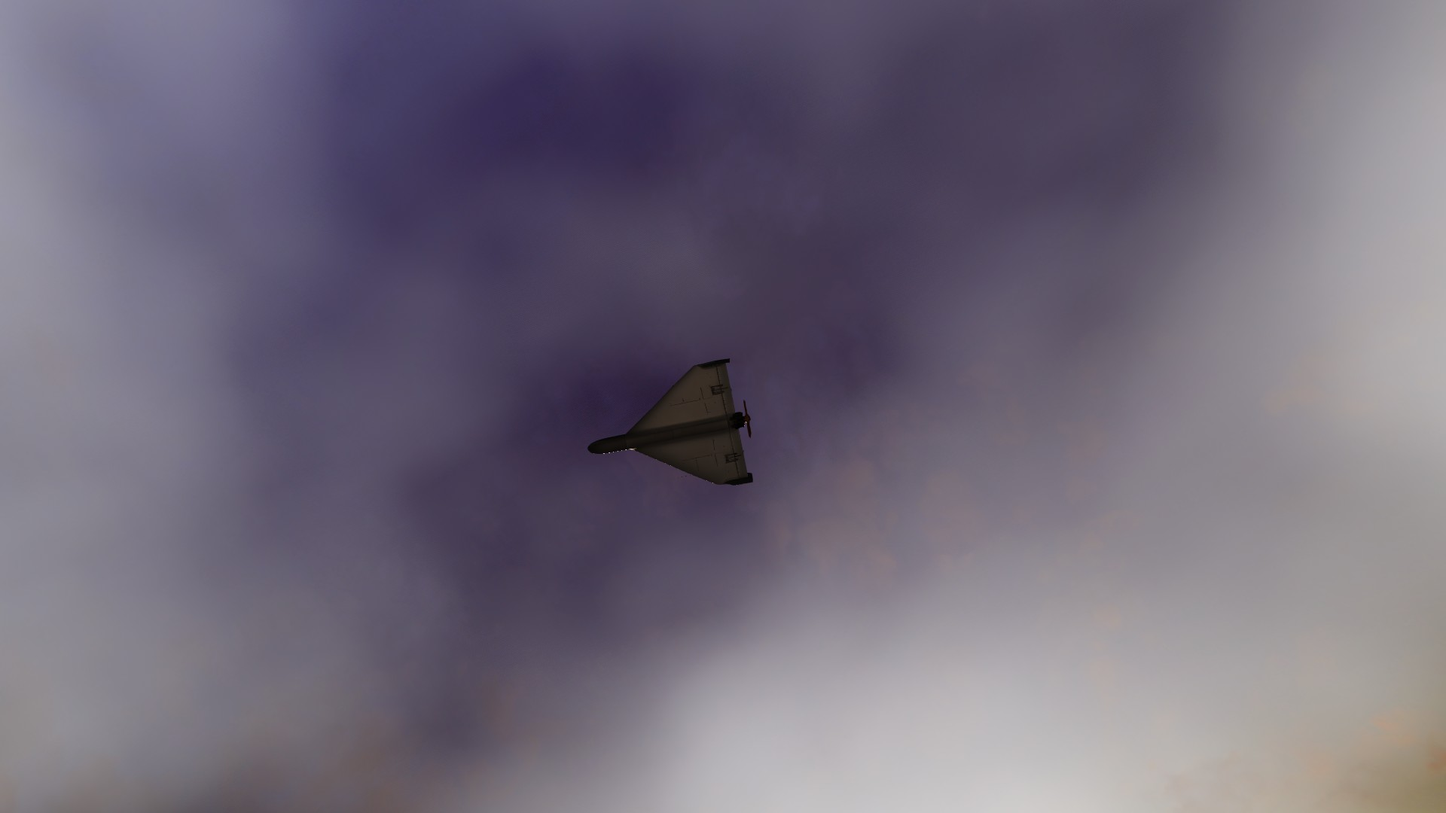shahed: (587, 358, 753, 486)
